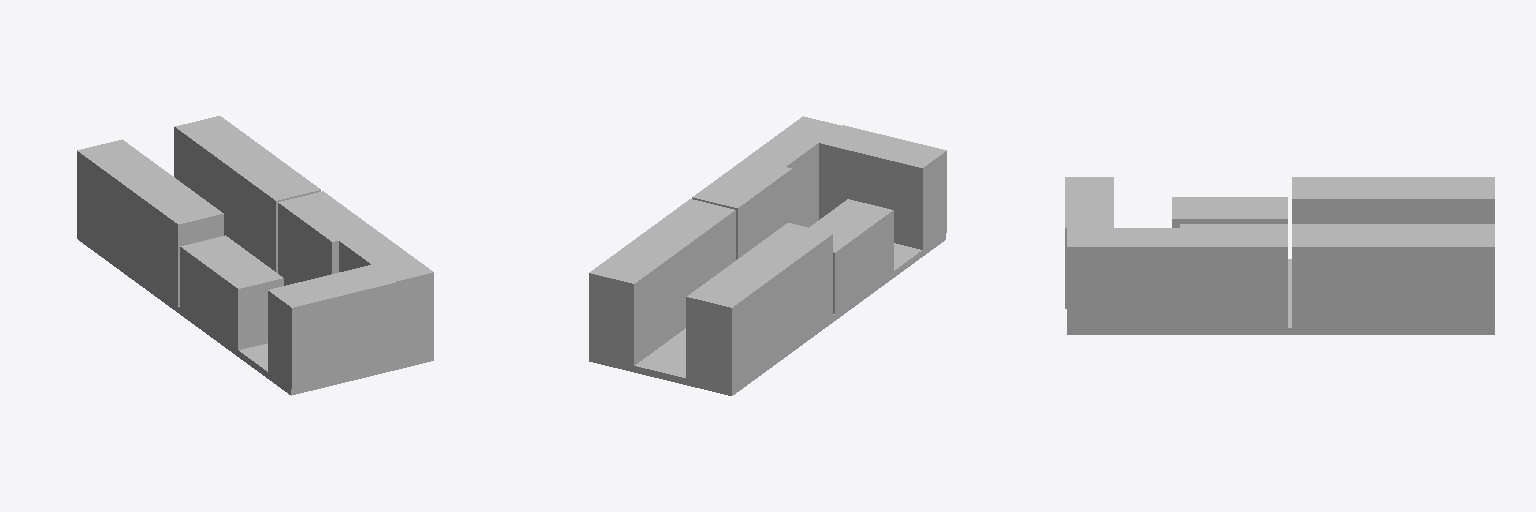
Rendered from streetScene.obj.
The picture shows the model from 3 angles: view 1: azimuth 30°, elevation 25°; view 2: azimuth 150°, elevation 25°; view 3: azimuth 270°, elevation 25°; orthographic projection.
Visible parts, largest first — view 1: streetScene; view 2: streetScene; view 3: streetScene.
Part boxes in pixels (x1,y1,x2,y2): streetScene: (77, 116, 433, 395); streetScene: (589, 116, 946, 395); streetScene: (1065, 177, 1494, 334).
Size of the model in its own units: 22 by 13 by 57.25.